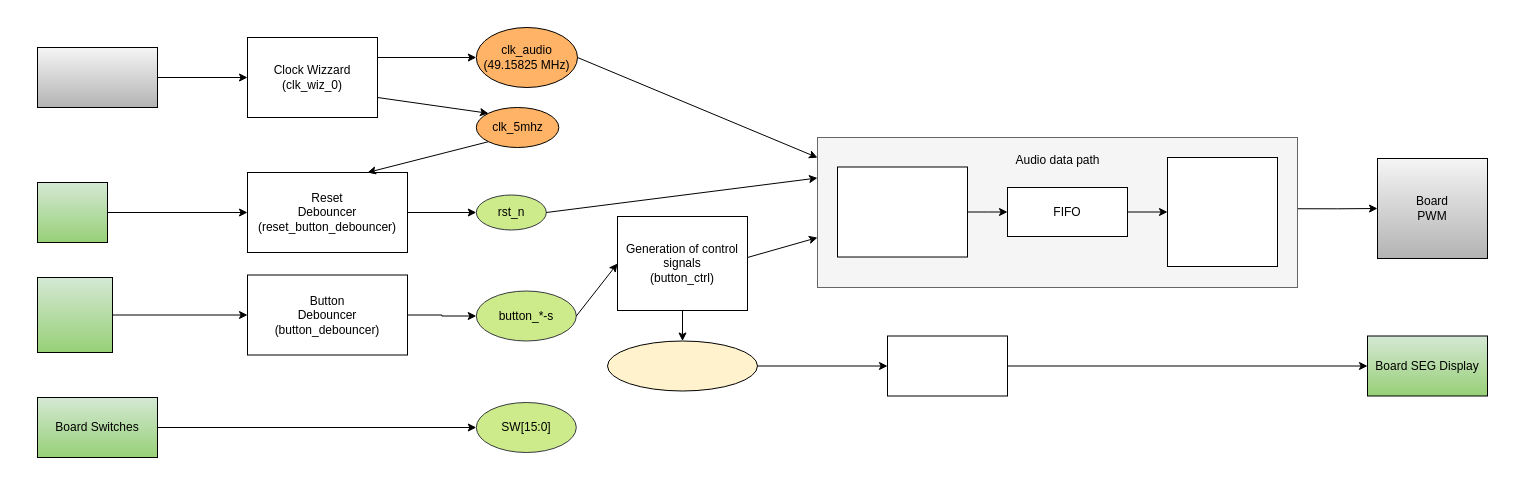
This 1524x494 diagram has some shape labels left out. The shapes that lost their labels are listed below. From the top down, each one's centre as x and y in pixels, then its label:
At (97,77): "Board Oscillator 100MHz".
At (72,212): "Board Reset Button".
At (902,211): "DDS generator (tone_generator)".
At (1222,211): "PWM".
At (74,314): "Board Cross Buttons".
At (682,365): "sevseg_32bit_hex_val".
At (947,365): "7SEG Displays Controller".
